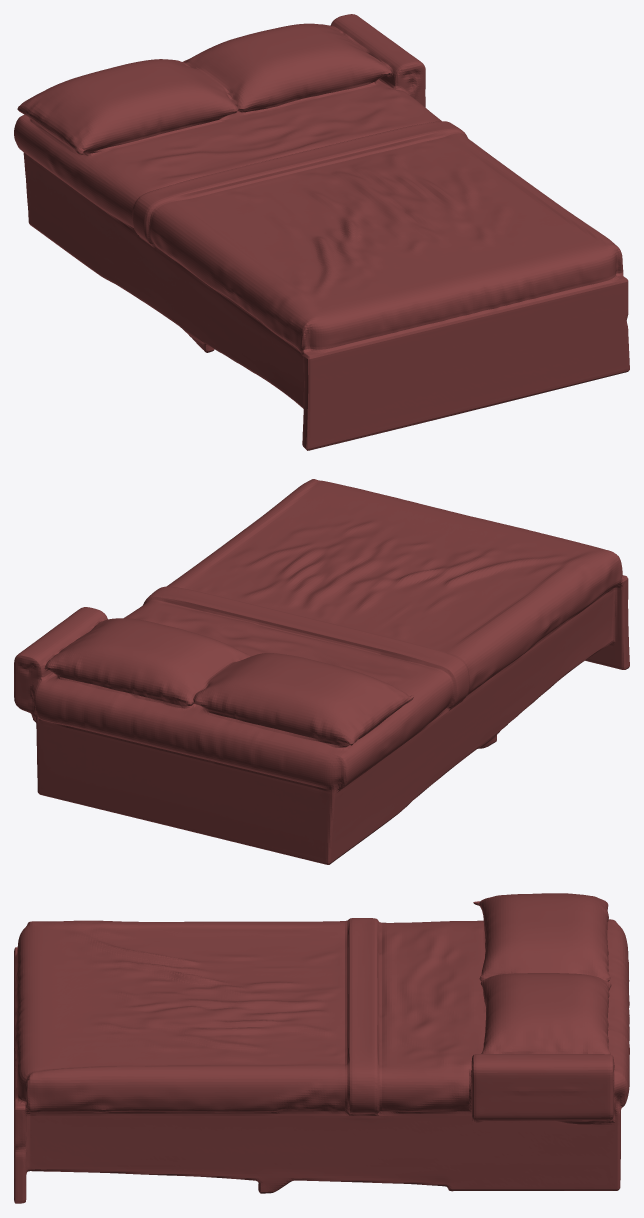
The picture shows the model from 3 angles, top to bottom: view 1: azimuth 30°, elevation 25°; view 2: azimuth 150°, elevation 25°; view 3: azimuth 270°, elevation 25°; orthographic projection. The views are drawn at different scales.
Parts seen in each view (by area): view 1: tmplfy0hrr0ply; view 2: tmplfy0hrr0ply; view 3: tmplfy0hrr0ply.
Boxes of the visible parts, x1,y1,x2,y2 form: tmplfy0hrr0ply: (14, 14, 629, 450); tmplfy0hrr0ply: (14, 479, 629, 864); tmplfy0hrr0ply: (14, 893, 629, 1203).
Bounding box in the file's own units: 1.3 × 0.5877 × 1.95.
